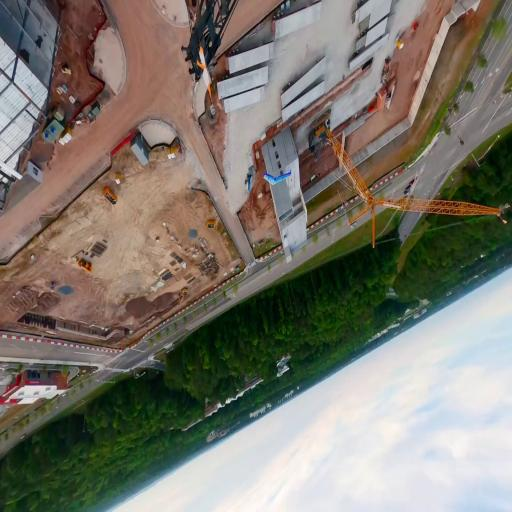uav: (262, 168, 292, 187)
